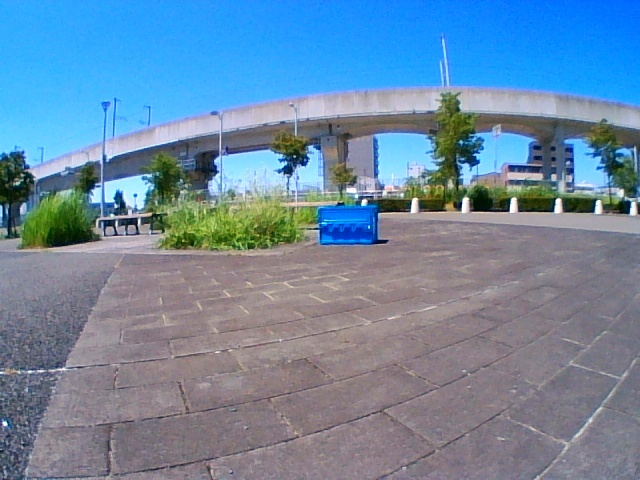blue_box: (320, 206, 378, 243)
tag: (373, 217, 376, 233)
